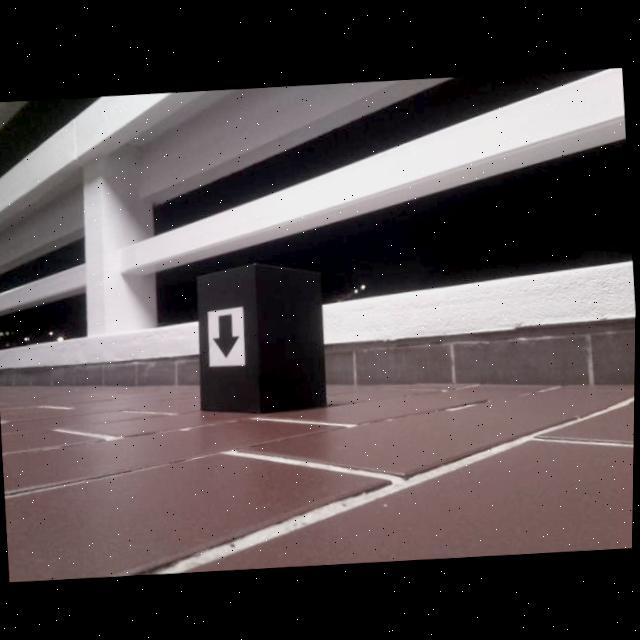DOWN: (212, 312, 241, 358)
